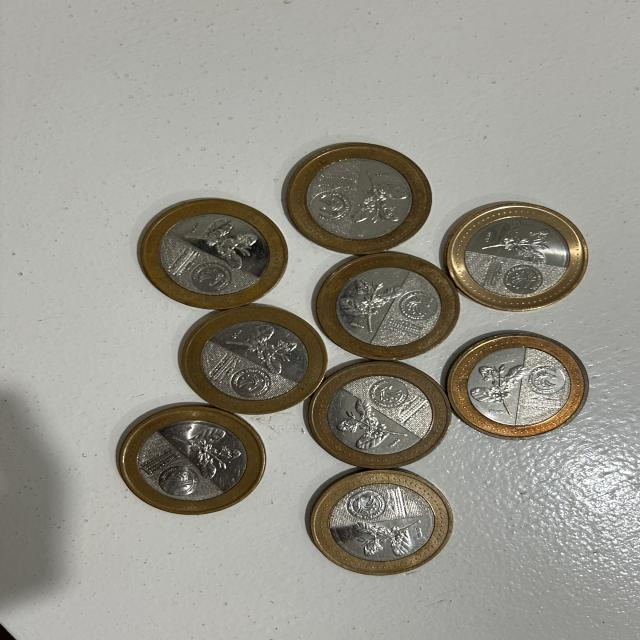20_New_Back: (328, 386, 416, 452), (179, 216, 259, 267), (353, 511, 423, 568)
